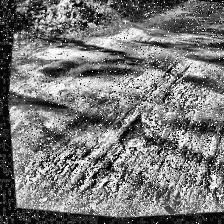pothole: (113, 112, 151, 154)
